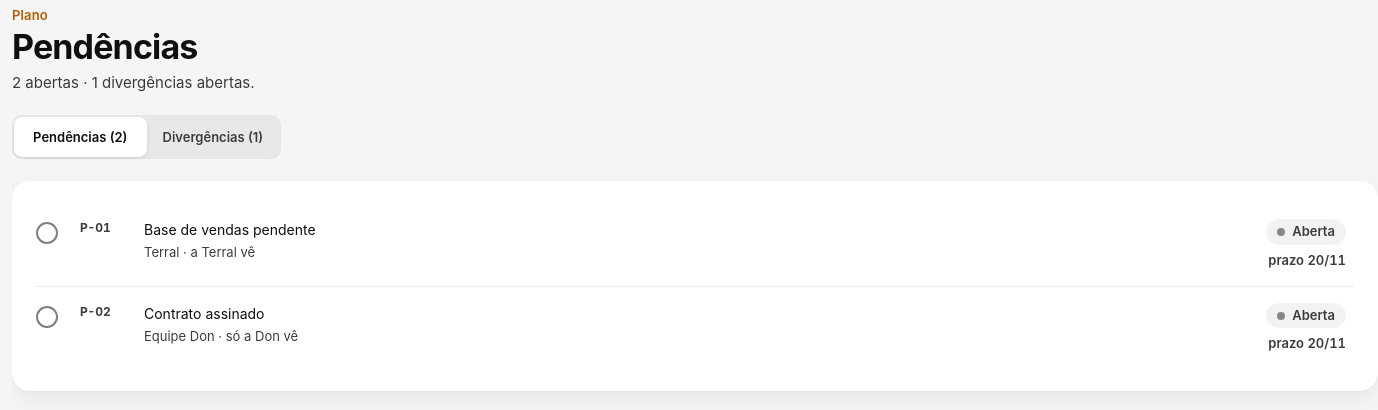
it: Pendências › lists P-items by code with status; X-items sit in the other segment
expect the text "Total não fecha" is not shown: met
Click the radio button labelled "Divergências (1)".
click(213, 137)  # box [147,117,279,157]
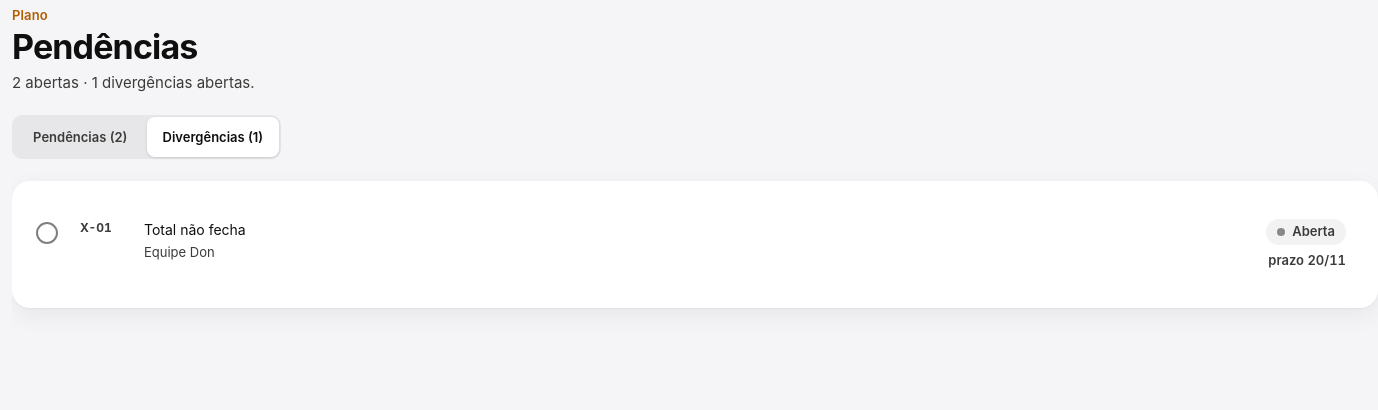
expect the text "Total não fecha" is shown: met, box [144,221,246,238]
